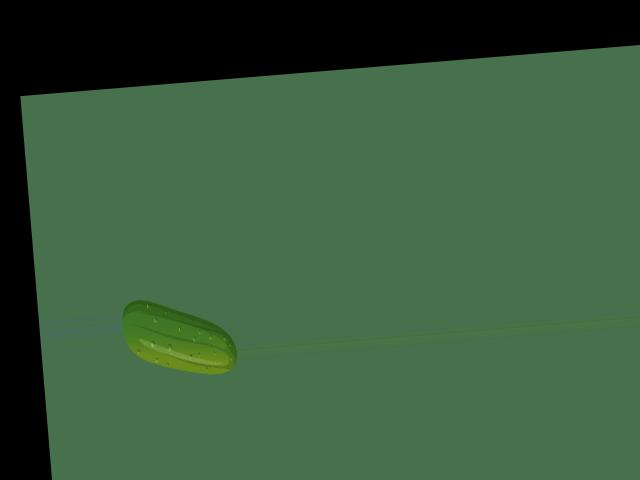cucumber: (120, 292, 238, 381)
